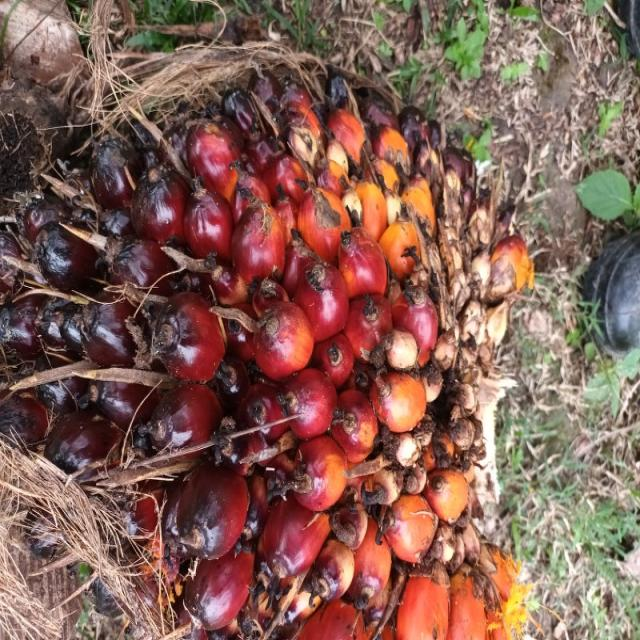fraksi 1: (0, 10, 435, 640)
